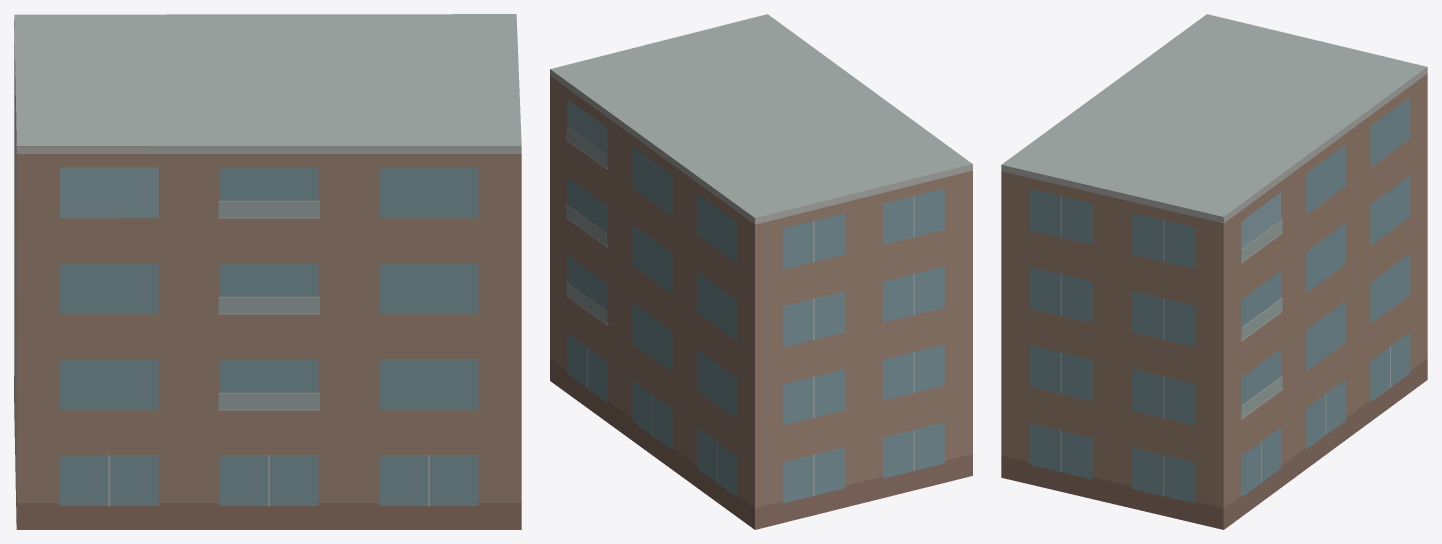
File: survey-upis-32870654.glb
3 views of the same model, side by side, from view 1: azimuth 30°, elevation 25°; view 2: azimuth 150°, elevation 25°; view 3: azimuth 270°, elevation 25° (orthographic). The views are drawn at different scales.
Parts seen in each view (by area): view 1: survey-upis-32870654.tmp; view 2: survey-upis-32870654.tmp; view 3: survey-upis-32870654.tmp.
Boxes of the visible parts, <box> form: survey-upis-32870654.tmp: <box>14,14,521,529</box>; survey-upis-32870654.tmp: <box>550,14,972,529</box>; survey-upis-32870654.tmp: <box>1001,14,1427,529</box>.
Bounding box in the file's own units: 16.35 × 11.75 × 14.52.
